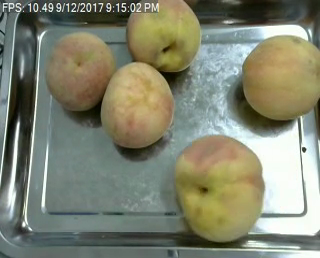Peach: (175, 132, 264, 243), (240, 33, 319, 120), (101, 61, 174, 149), (45, 30, 116, 112), (124, 0, 203, 72)
